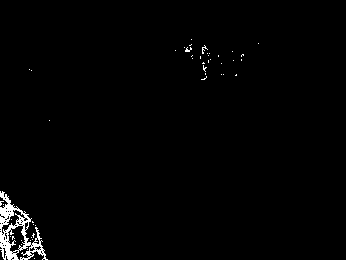person: (1, 189, 49, 260)
